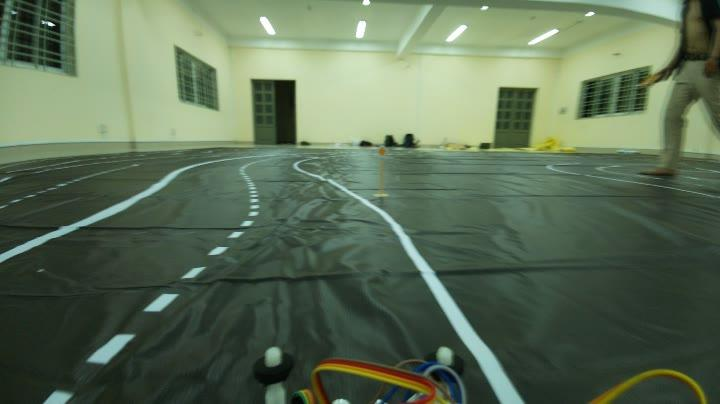priority: (377, 142, 387, 160)
